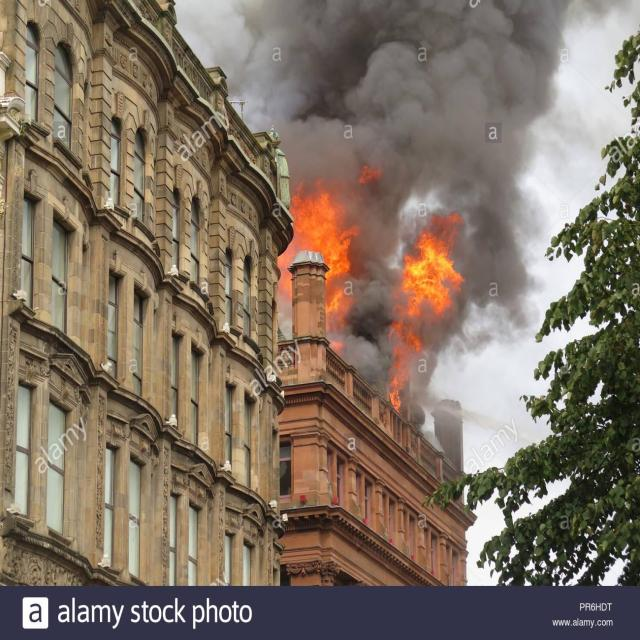Fire: (257, 147, 492, 420)
